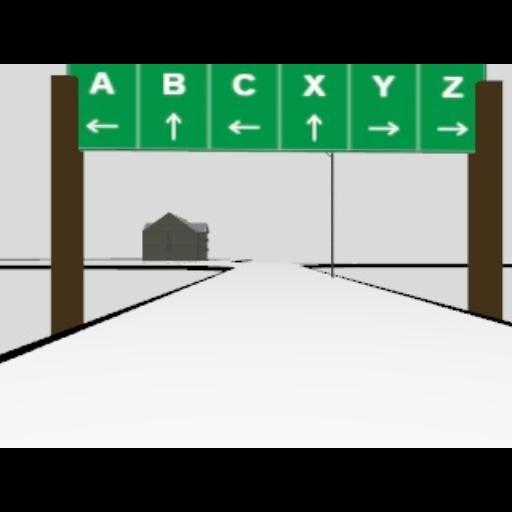A: (88, 70, 116, 94)
B: (162, 70, 186, 94)
C: (230, 72, 258, 96)
Left: (226, 118, 262, 134), (84, 117, 120, 133)
Right: (366, 120, 400, 136), (435, 122, 467, 136)
Straight: (165, 112, 181, 140), (306, 114, 322, 140)
X: (301, 72, 327, 96)
Y: (371, 74, 395, 98)
Z: (440, 74, 464, 98)
